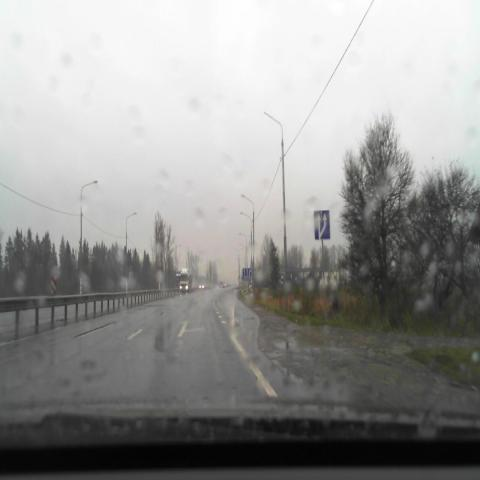5_15_3: (314, 211, 330, 239)
